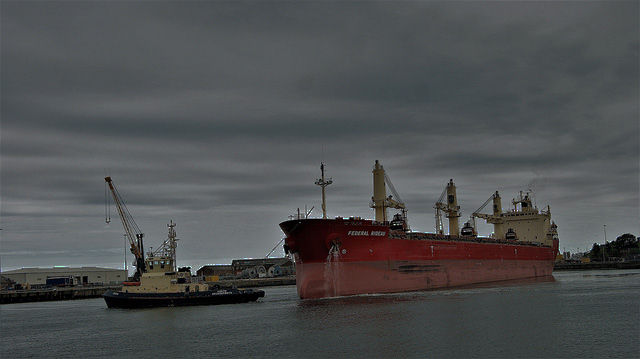bulk carrier: (277, 162, 566, 294)
tug_boat: (103, 227, 267, 302)
